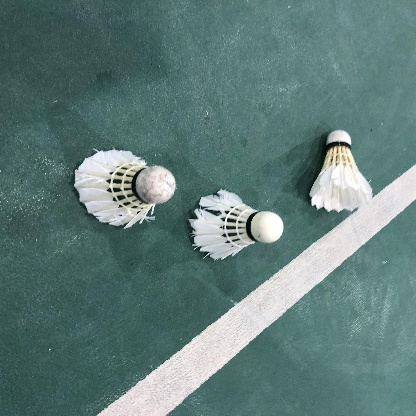ball_single: (74, 149, 176, 229), (189, 189, 284, 260), (310, 130, 373, 212)
